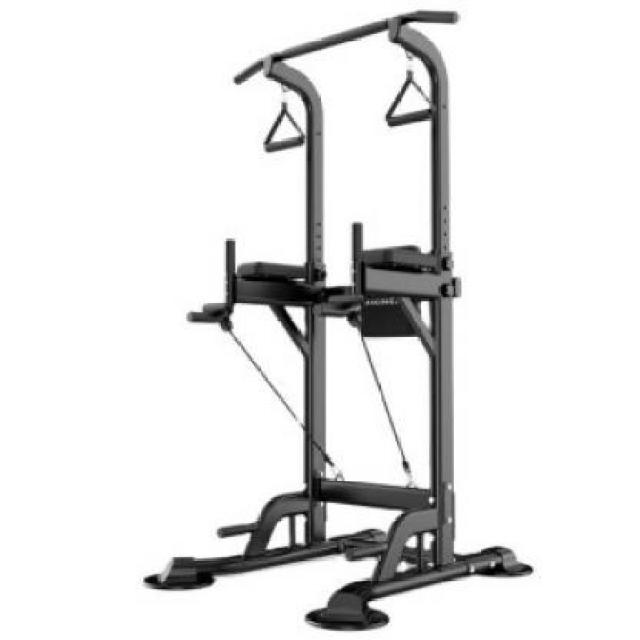chinning dipping: (144, 10, 534, 632)
